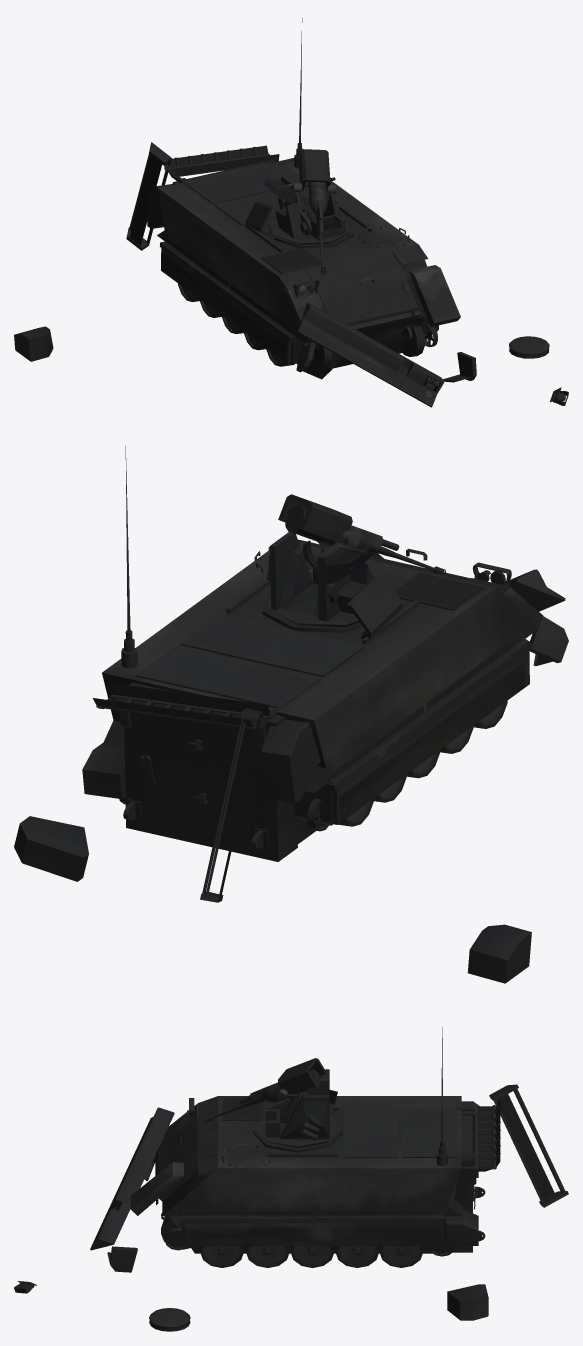
Rendered from M113 Damaged Var 2.fbx.
The picture shows the model from 3 angles, top to bottom: view 1: azimuth 30°, elevation 25°; view 2: azimuth 150°, elevation 25°; view 3: azimuth 270°, elevation 25°; orthographic projection. The views are drawn at different scales.
Parts seen in each view (by area): view 1: polySurface701, polySurface599, polySurface710, polySurface704, polySurface596, polySurface706, polySurface557, polySurface709, polySurface713, polySurface595, polySurface720, polySurface534 (+16 smaller); view 2: polySurface701, polySurface712, polySurface704, polySurface595, polySurface596, polySurface532, polySurface533, polySurface534, polySurface557, polySurface623, polySurface705, polySurface717 (+16 smaller); view 3: polySurface701, polySurface704, polySurface599, polySurface557, polySurface595, polySurface596, polySurface710, polySurface712, polySurface705, polySurface533, polySurface706, polySurface578 (+18 smaller).
Part boxes in pixels (x1,y1,x2,y2): polySurface701: [157, 158, 427, 343]; polySurface599: [297, 302, 444, 407]; polySurface710: [315, 265, 420, 331]; polySurface704: [161, 248, 438, 363]; polySurface596: [186, 162, 307, 204]; polySurface706: [409, 265, 460, 326]; polySurface557: [126, 142, 171, 250]; polySurface709: [305, 251, 400, 284]; polySurface713: [308, 317, 424, 373]; polySurface595: [214, 186, 336, 225]; polySurface720: [298, 149, 330, 190]; polySurface534: [14, 326, 53, 361]; polySurface701: [102, 544, 537, 792]; polySurface712: [124, 682, 297, 861]; polySurface704: [293, 650, 529, 824]; polySurface595: [180, 613, 364, 677]; polySurface596: [136, 645, 320, 707]; polySurface532: [261, 719, 320, 803]; polySurface533: [14, 816, 88, 881]; polySurface534: [467, 924, 531, 983]; polySurface557: [200, 708, 263, 902]; polySurface623: [394, 571, 485, 610]; polySurface705: [320, 641, 531, 791]; polySurface717: [347, 574, 402, 639]; polySurface701: [162, 1096, 462, 1216]; polySurface704: [184, 1223, 443, 1245]; polySurface599: [90, 1107, 174, 1250]; polySurface557: [489, 1084, 568, 1207]; polySurface595: [343, 1108, 398, 1157]; polySurface596: [401, 1108, 456, 1157]; polySurface710: [155, 1117, 198, 1201]; polySurface712: [446, 1115, 472, 1252]; polySurface705: [182, 1216, 446, 1222]; polySurface533: [447, 1284, 488, 1320]; polySurface706: [130, 1162, 183, 1215]; polySurface578: [446, 1209, 478, 1245].
Size of the model in its own units: 682 by 484 by 845.
